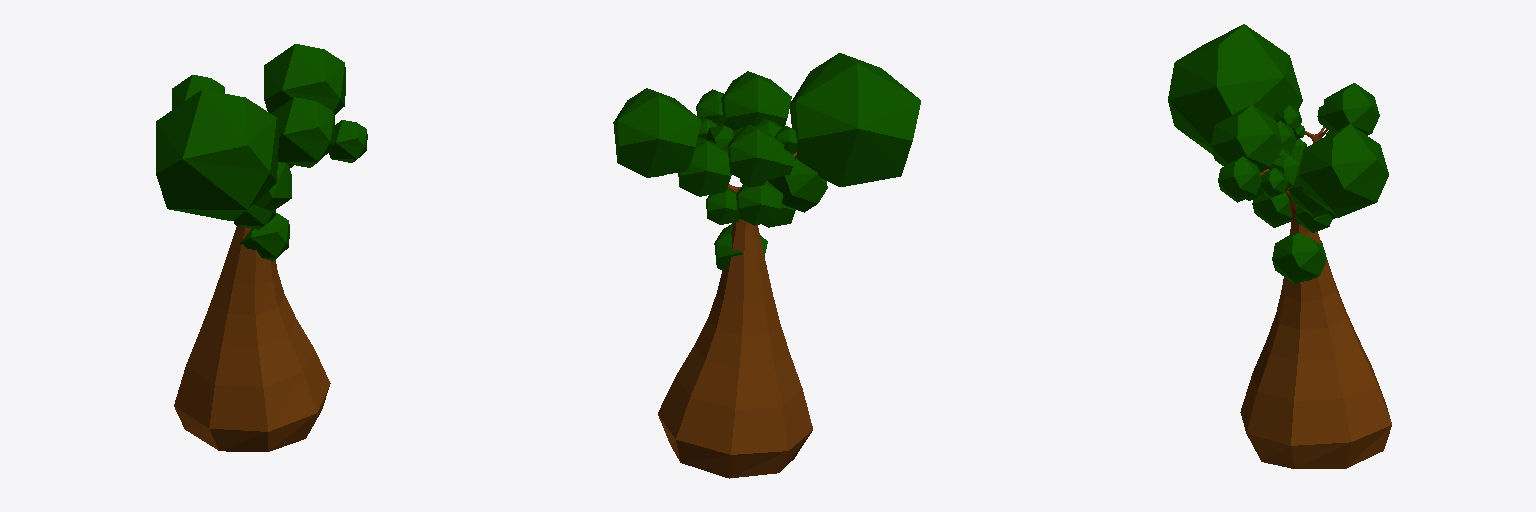
The model's file is Planta05.obj.
The picture shows the model from 3 angles: view 1: azimuth 30°, elevation 25°; view 2: azimuth 150°, elevation 25°; view 3: azimuth 270°, elevation 25°; orthographic projection.
Visible parts, largest first — view 1: Plane.004, Icosphere.046, Icosphere.038, Icosphere.042, Icosphere.054, Icosphere.043, Icosphere.048, Icosphere.033, Icosphere.053; view 2: Plane.004, Icosphere.046, Icosphere.038, Icosphere.042, Icosphere.033, Icosphere.039, Icosphere.047, Icosphere.051, Icosphere.052, Icosphere.054, Icosphere.043; view 3: Plane.004, Icosphere.046, Icosphere.038, Icosphere.042, Icosphere.033, Icosphere.054, Icosphere.043, Icosphere.053, Icosphere.039, Icosphere.050, Icosphere.052.
Part boxes in pixels (left/top/right/bottom): Plane.004: left=174, top=226, right=330, bottom=451; Icosphere.046: left=156, top=89, right=278, bottom=220; Icosphere.038: left=264, top=44, right=345, bottom=114; Icosphere.042: left=271, top=97, right=334, bottom=167; Icosphere.054: left=240, top=213, right=289, bottom=261; Icosphere.043: left=329, top=120, right=367, bottom=162; Icosphere.048: left=251, top=162, right=291, bottom=211; Icosphere.033: left=172, top=75, right=224, bottom=109; Icosphere.053: left=234, top=207, right=275, bottom=229; Plane.004: left=658, top=124, right=812, bottom=478; Icosphere.046: left=790, top=53, right=920, bottom=186; Icosphere.038: left=613, top=88, right=700, bottom=177; Icosphere.042: left=721, top=71, right=791, bottom=130; Icosphere.033: left=728, top=125, right=784, bottom=182; Icosphere.039: left=678, top=137, right=731, bottom=196; Icosphere.047: left=768, top=153, right=827, bottom=212; Icosphere.051: left=736, top=182, right=782, bottom=225; Icosphere.052: left=706, top=189, right=739, bottom=224; Icosphere.054: left=714, top=223, right=767, bottom=270; Icosphere.043: left=696, top=89, right=723, bottom=125; Plane.004: left=1240, top=126, right=1391, bottom=468; Icosphere.046: left=1168, top=24, right=1302, bottom=155; Icosphere.038: left=1299, top=124, right=1388, bottom=217; Icosphere.042: left=1211, top=105, right=1283, bottom=172; Icosphere.033: left=1322, top=83, right=1379, bottom=135; Icosphere.054: left=1272, top=233, right=1326, bottom=284; Icosphere.043: left=1218, top=156, right=1261, bottom=202; Icosphere.053: left=1252, top=192, right=1291, bottom=227; Icosphere.039: left=1289, top=168, right=1325, bottom=217; Icosphere.050: left=1260, top=168, right=1287, bottom=197; Icosphere.052: left=1295, top=206, right=1332, bottom=232.
Bounding box in the file's own units: 11.22 × 17.26 × 8.9.